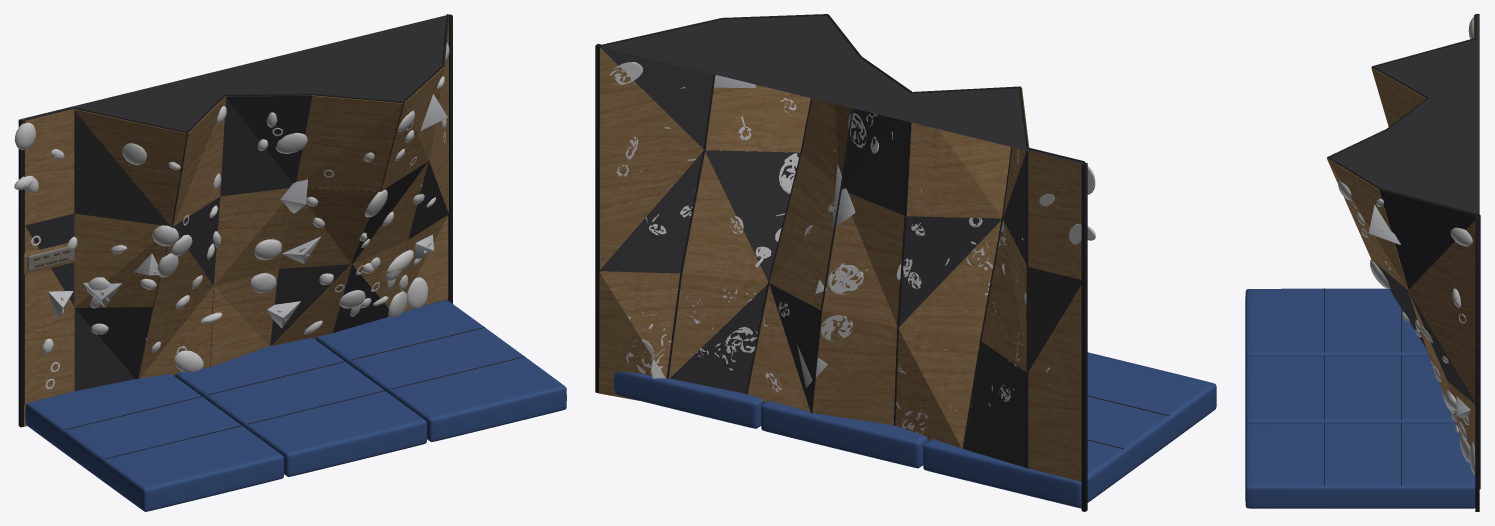
File: boulder.glb
3 renders of one model, left to right at view 1: azimuth 30°, elevation 25°; view 2: azimuth 150°, elevation 25°; view 3: azimuth 270°, elevation 25°, orthographic. The views are drawn at different scales.
Parts seen in each view (by area): view 1: boulder_pannelli, boulder_materassi, boulder_neri, boulder_bordi, boulder_volumi, presa_gialla, presa_verde, presa_nera, presa_rosa, presa_arancio, presa_blu, presa_bianca (+1 smaller); view 2: boulder_pannelli, boulder_neri, boulder_bordi, boulder_materassi, presa_verde, boulder_volumi, presa_arancio, presa_gialla, presa_rosa, presa_bianca, presa_nera, presa_blu; view 3: boulder_materassi, boulder_bordi, boulder_pannelli, boulder_neri, presa_verde, boulder_volumi, presa_arancio, presa_blu, presa_gialla.
Boxes of the visible parts, x1,y1,x2,y2 form: boulder_pannelli: (24,20,448,426); boulder_materassi: (25,300,566,511); boulder_neri: (25,16,448,390); boulder_bordi: (18,14,452,427); boulder_volumi: (48,94,447,328); presa_gialla: (14,106,413,354); presa_verde: (45,43,449,389); presa_nera: (14,127,282,372); presa_rosa: (61,110,445,334); presa_arancio: (51,76,444,353); presa_blu: (31,119,446,308); presa_bianca: (175,130,422,308); boulder_pannelli: (599,17,1084,508); boulder_neri: (600,47,1081,467); boulder_bordi: (595,14,1087,511); boulder_materassi: (614,352,1216,507); presa_verde: (610,62,988,392); boulder_volumi: (714,75,1009,387); presa_arancio: (643,136,1054,415); presa_gialla: (696,98,1095,406); presa_rosa: (616,148,1019,401); presa_bianca: (636,127,982,357); presa_nera: (627,87,1095,434); presa_blu: (625,132,1026,394); boulder_materassi: (1245,288,1475,508); boulder_bordi: (1327,14,1480,511); boulder_pannelli: (1327,15,1475,476); boulder_neri: (1371,189,1477,404); presa_verde: (1369,227,1472,380); boulder_volumi: (1368,204,1470,418); presa_arancio: (1376,198,1470,463); presa_blu: (1452,288,1475,474); presa_gialla: (1351,17,1473,432).
Bounding box in the file's own units: 6.6 × 4.41 × 3.18.
Materials: 9 (2 with a texture image).
